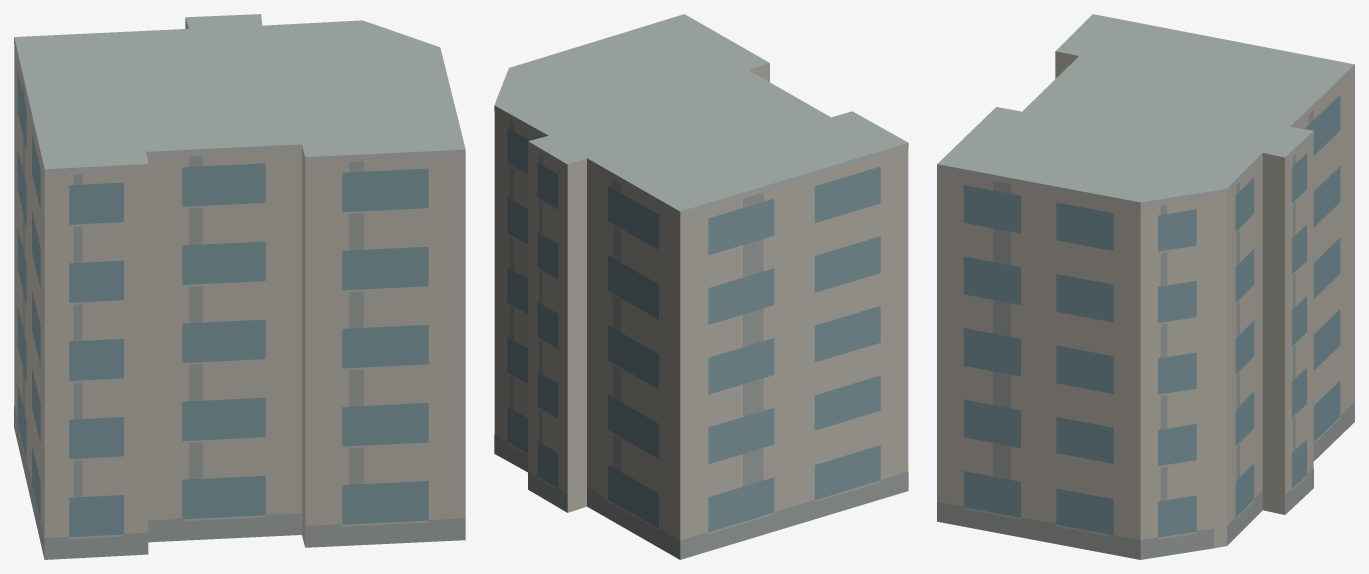
File: survey-upis-32847869.glb
The picture shows the model from 3 angles, left to right: view 1: azimuth 30°, elevation 25°; view 2: azimuth 150°, elevation 25°; view 3: azimuth 270°, elevation 25°; orthographic projection. The views are drawn at different scales.
Parts seen in each view (by area): view 1: survey-upis-32847869.tmp; view 2: survey-upis-32847869.tmp; view 3: survey-upis-32847869.tmp.
Part boxes in pixels (x1,y1,x2,y2): survey-upis-32847869.tmp: (14, 14, 465, 559); survey-upis-32847869.tmp: (494, 14, 908, 559); survey-upis-32847869.tmp: (937, 14, 1354, 559).
Bounding box in the file's own units: 16.17 × 14.3 × 15.15.
